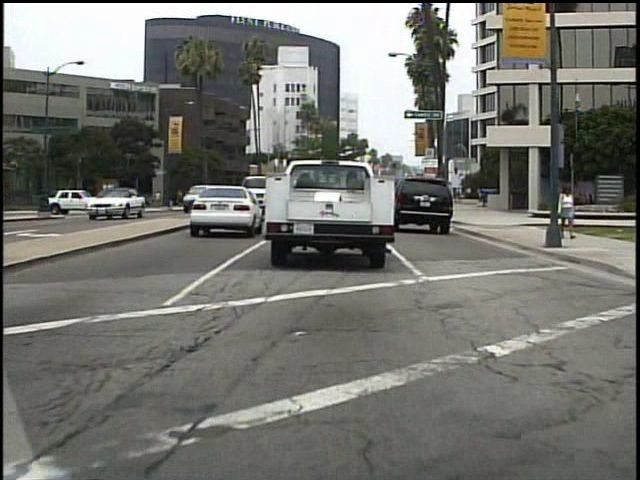person: (558, 178, 579, 246), (114, 181, 129, 217), (112, 189, 127, 220), (156, 188, 165, 212)
